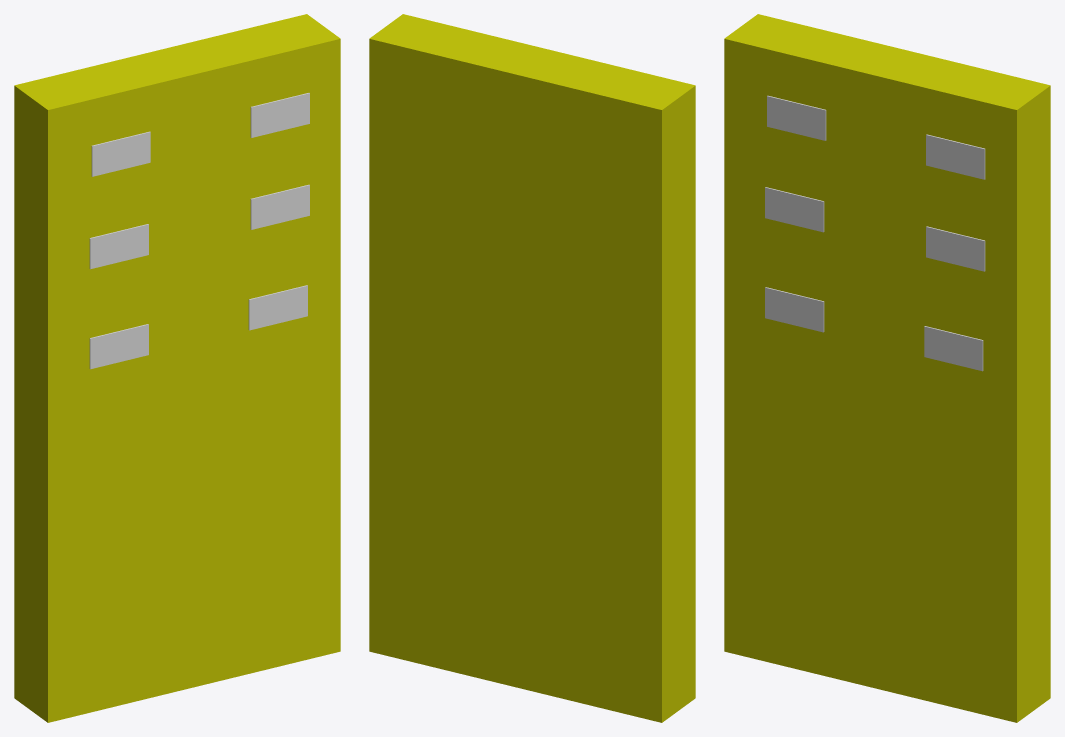
File: lowpolybuilding.fbx
The picture shows the model from 3 angles, left to right: view 1: azimuth 30°, elevation 25°; view 2: azimuth 150°, elevation 25°; view 3: azimuth 330°, elevation 25°; orthographic projection.
Parts seen in each view (by area): view 1: Cube, Cube.002, Cube.006, Cube.001, Cube.003, Cube.004, Cube.005; view 2: Cube; view 3: Cube, Cube.002, Cube.003, Cube.004, Cube.005, Cube.006, Cube.001.
Boxes of the visible parts, x1,y1,x2,y2 form: Cube: (14, 14, 340, 722); Cube.002: (89, 324, 148, 369); Cube.006: (91, 131, 150, 176); Cube.001: (248, 285, 307, 330); Cube.003: (89, 224, 148, 269); Cube.004: (250, 184, 309, 229); Cube.005: (250, 93, 309, 137); Cube: (369, 14, 695, 722); Cube: (724, 14, 1050, 722); Cube.002: (765, 287, 824, 332); Cube.003: (765, 187, 824, 232); Cube.004: (926, 226, 985, 271); Cube.005: (926, 134, 985, 179); Cube.006: (767, 95, 826, 140); Cube.001: (924, 326, 983, 371).
Size of the model in its own units: 1000 by 2000 by 204.
